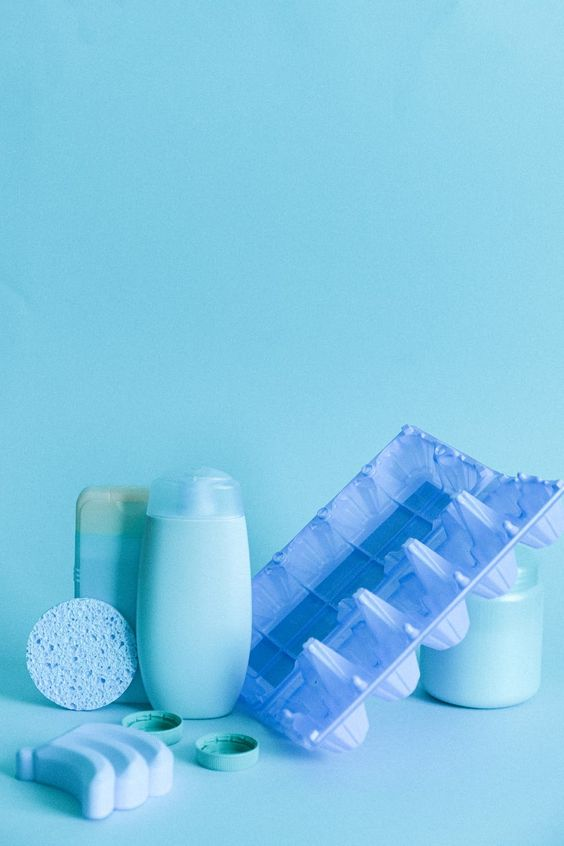Metal: (135, 514, 254, 717), (419, 582, 551, 709), (75, 538, 155, 603), (194, 729, 264, 780), (115, 709, 190, 742)
plastic: (145, 471, 256, 521), (75, 487, 160, 535)
